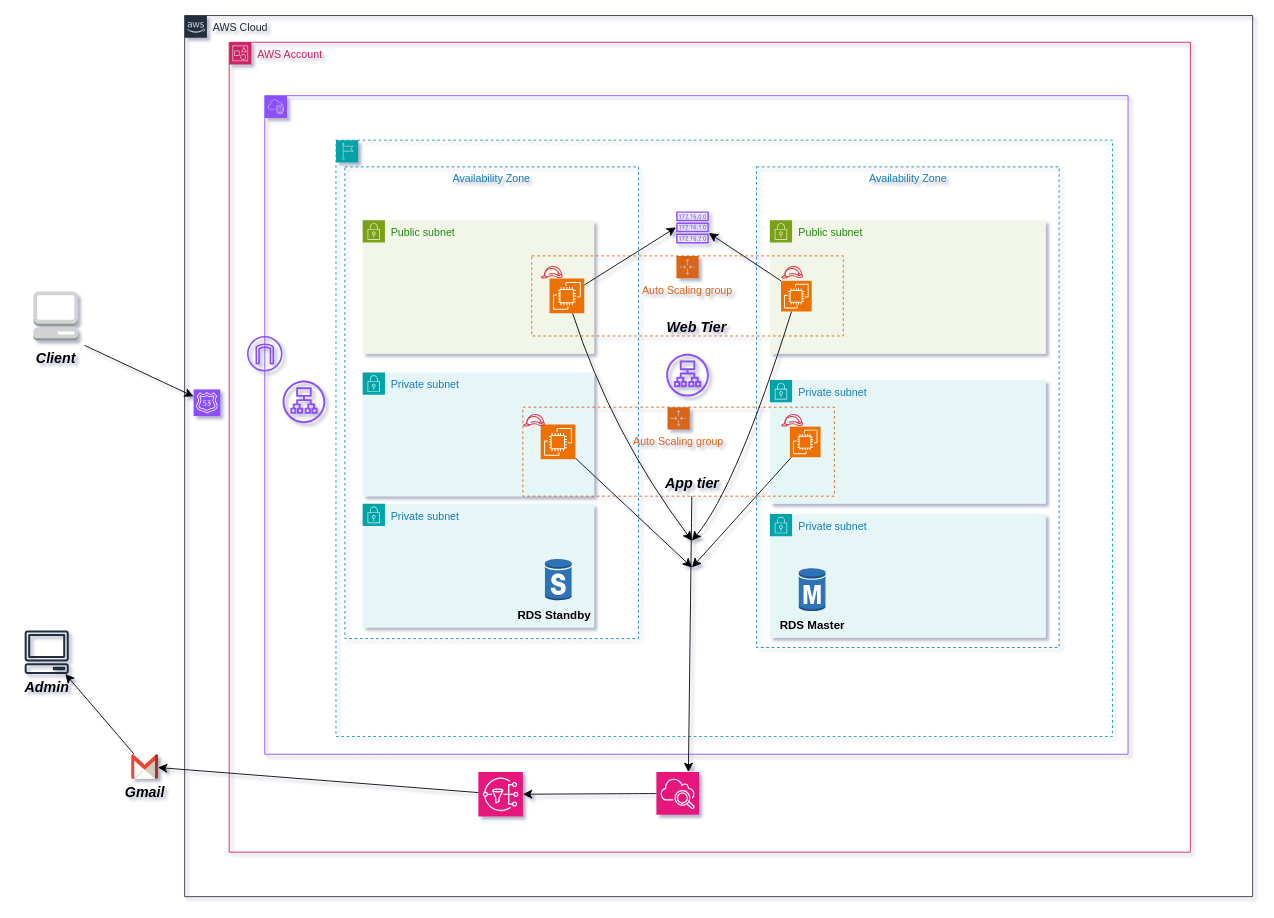
Some shapes in this 1274 by 918 pixel diagram are drawn without their labels. Here are the shapes that lost their labels. From the top down, the box of each, then its label:
(264, 95, 1128, 754): VPC
(335, 139, 1112, 736): Region
